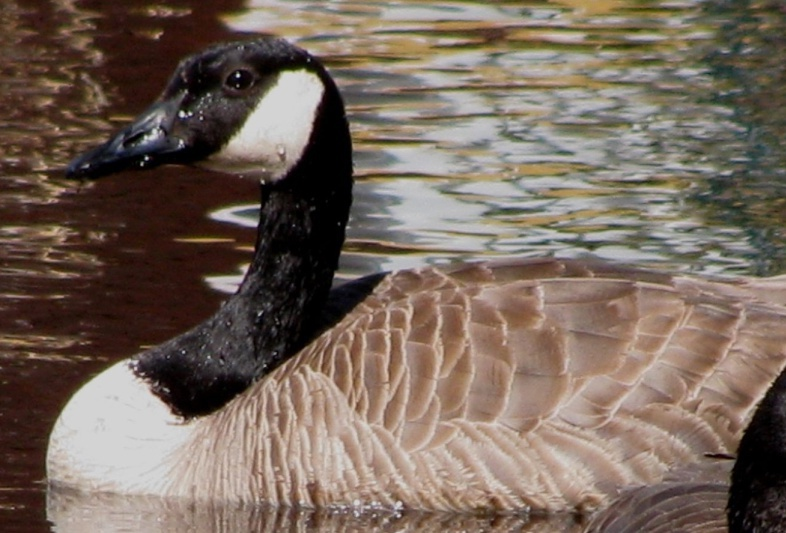goose: (36, 29, 786, 507)
